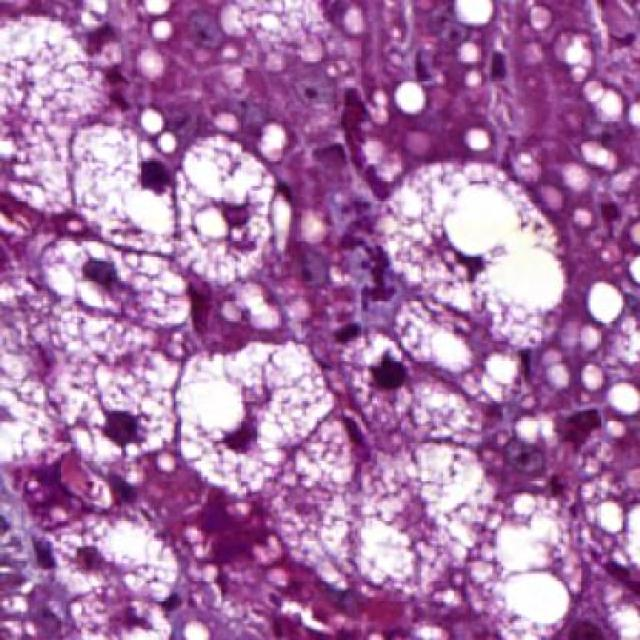ballooning: (374, 156, 573, 358), (166, 334, 341, 498), (48, 312, 194, 473), (171, 135, 297, 287), (72, 119, 180, 263)
